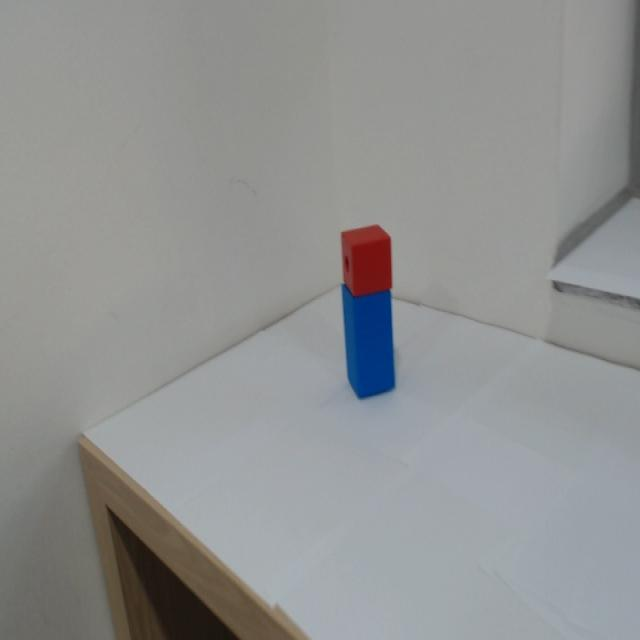cube: (330, 203, 402, 288)
